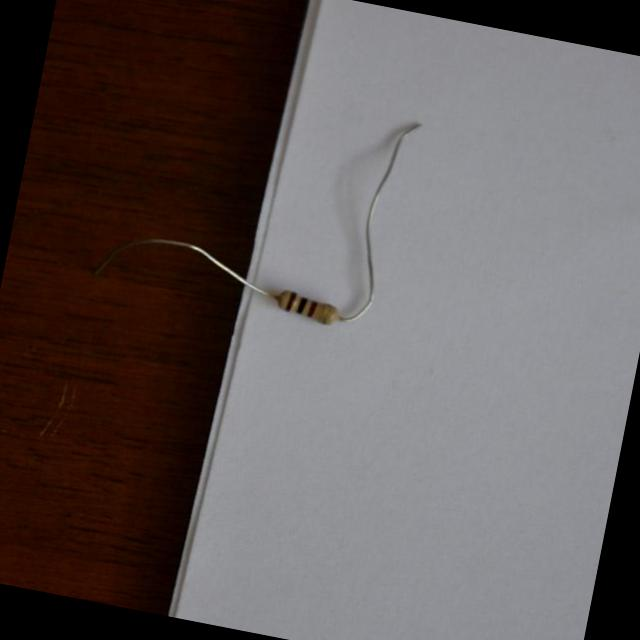Resistor: (273, 290, 339, 324)
black: (295, 296, 308, 315)
brown: (285, 292, 296, 313), (306, 300, 317, 319)
gold: (322, 304, 330, 325)
